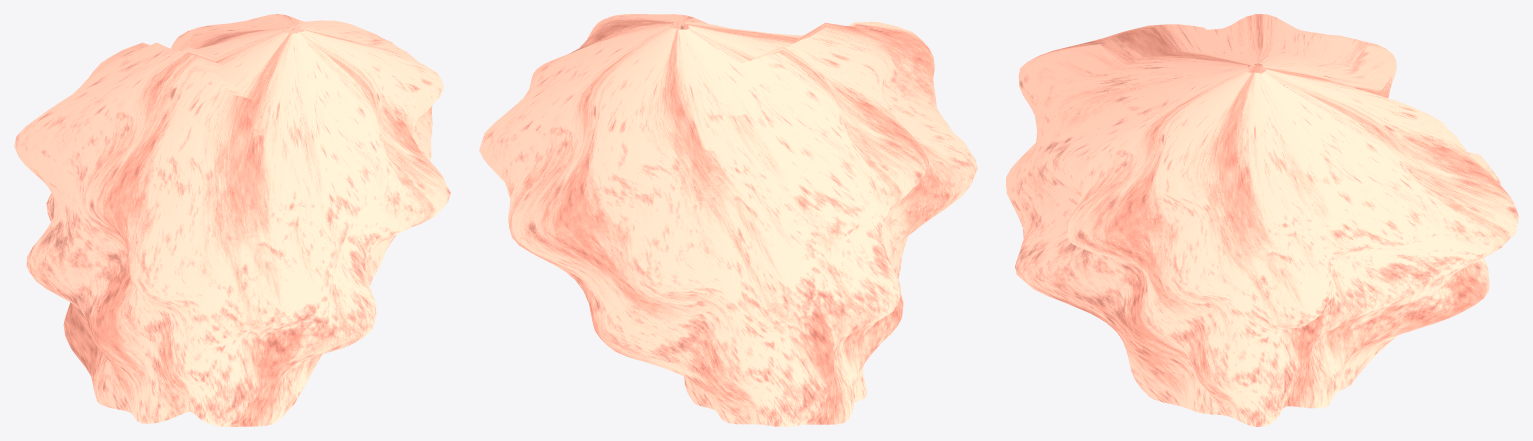
The model's file is devil_plume.glb.
3 renders of one model, left to right at view 1: azimuth 30°, elevation 25°; view 2: azimuth 150°, elevation 25°; view 3: azimuth 270°, elevation 25°, orthographic. The views are drawn at different scales.
Visible parts, largest first — view 1: devil_plume; view 2: devil_plume; view 3: devil_plume.
Part boxes in pixels (<box>): devil_plume: <box>14,14,450,426</box>; devil_plume: <box>479,14,977,426</box>; devil_plume: <box>1006,14,1518,426</box>.
Bounding box in the file's own units: 27.88 × 24.05 × 30.77.
1 material, 1 textured.
